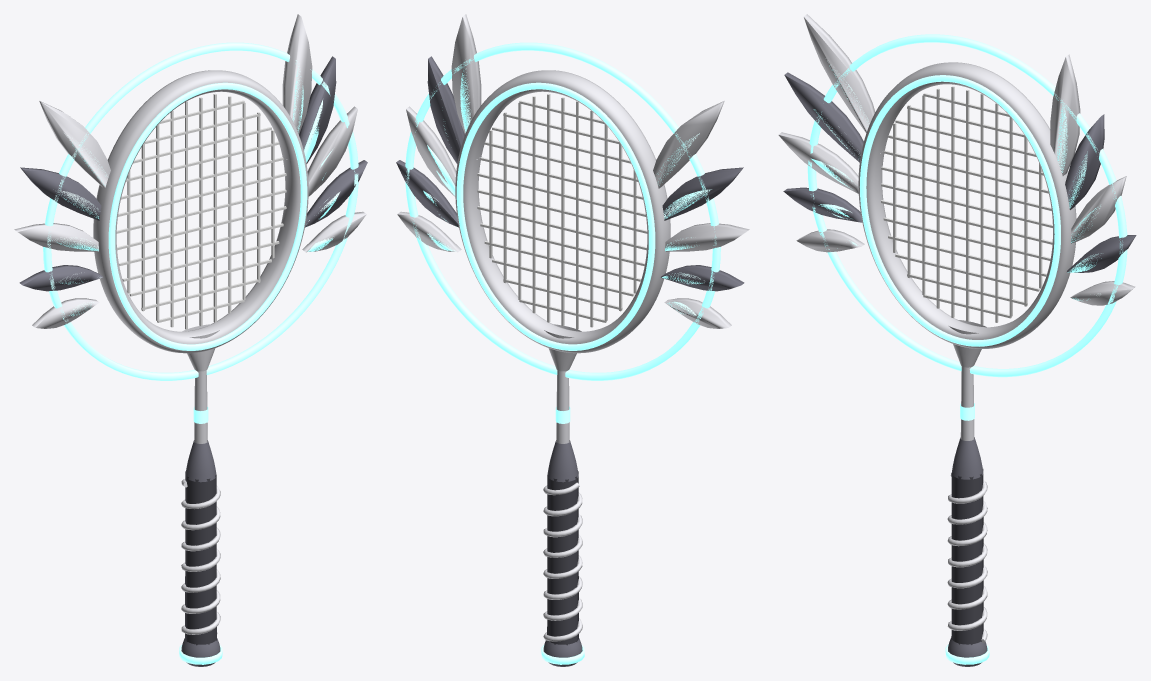
Rendered from racket_seraph.glb.
The picture shows the model from 3 angles, left to right: view 1: azimuth 30°, elevation 25°; view 2: azimuth 150°, elevation 25°; view 3: azimuth 330°, elevation 25°; orthographic projection.
Parts seen in each view (by area): view 1: Strings, FrameHead, Halo, Groove, Grip, Feather.005, Feather, GripTape, Feather.001, Feather.007, Feather.006, Feather.002 (+8 smaller); view 2: Strings, FrameHead, Halo, Groove.001, Grip, Feather, Feather.005, GripTape, Feather.006, Feather.001, Feather.002, Feather.007 (+8 smaller); view 3: Strings, FrameHead, Halo, Groove, Grip, Feather, Feather.005, Feather.001, GripTape, Feather.006, Feather.002, Feather.007 (+8 smaller).
Part boxes in pixels (x1,y1,x2,y2): Strings: (116,93,286,329); FrameHead: (93,70,308,353); Halo: (43,42,358,380); Groove: (108,82,307,350); Grip: (185,471,216,645); Feather.005: (282,14,312,159); Feather: (39,101,110,188); GripTape: (181,479,220,634); Feather.001: (20,167,101,220); Feather.007: (307,106,357,196); Feather.006: (299,56,336,163); Feather.002: (14,223,98,251); Strings: (477,93,647,329); FrameHead: (455,70,670,353); Halo: (405,42,720,380); Groove.001: (456,82,655,350); Grip: (547,471,578,645); Feather: (653,101,724,188); Feather.005: (451,14,481,159); GripTape: (543,482,582,641); Feather.006: (427,56,464,163); Feather.001: (662,167,743,220); Feather.002: (665,223,749,251); Feather.007: (406,106,456,196); Strings: (881,86,1052,325); FrameHead: (858,62,1076,348); Halo: (807,34,1127,377); Groove: (860,75,1060,346); Grip: (951,469,983,644); Feather: (803,14,880,153); Feather.005: (1050,54,1080,175); Feather.001: (784,72,863,162); GripTape: (947,473,987,643); Feather.006: (1065,114,1104,209); Feather.002: (778,132,858,193); Feather.007: (1071,176,1126,243).
Bounding box in the file's own units: 0.4557 × 0.7743 × 0.0496.
